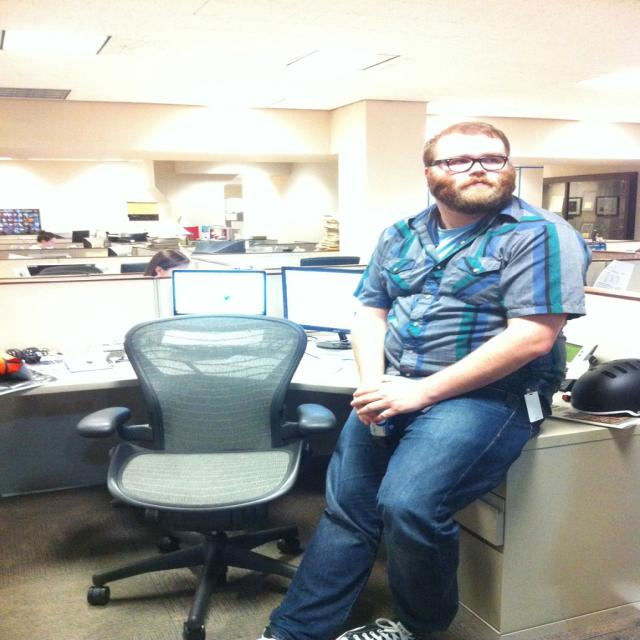chair: (84, 314, 334, 637)
desk: (20, 337, 638, 638)
laptop: (170, 269, 268, 319)
person: (256, 120, 591, 640), (143, 250, 191, 278)
tv: (281, 266, 365, 332), (171, 269, 266, 316)
